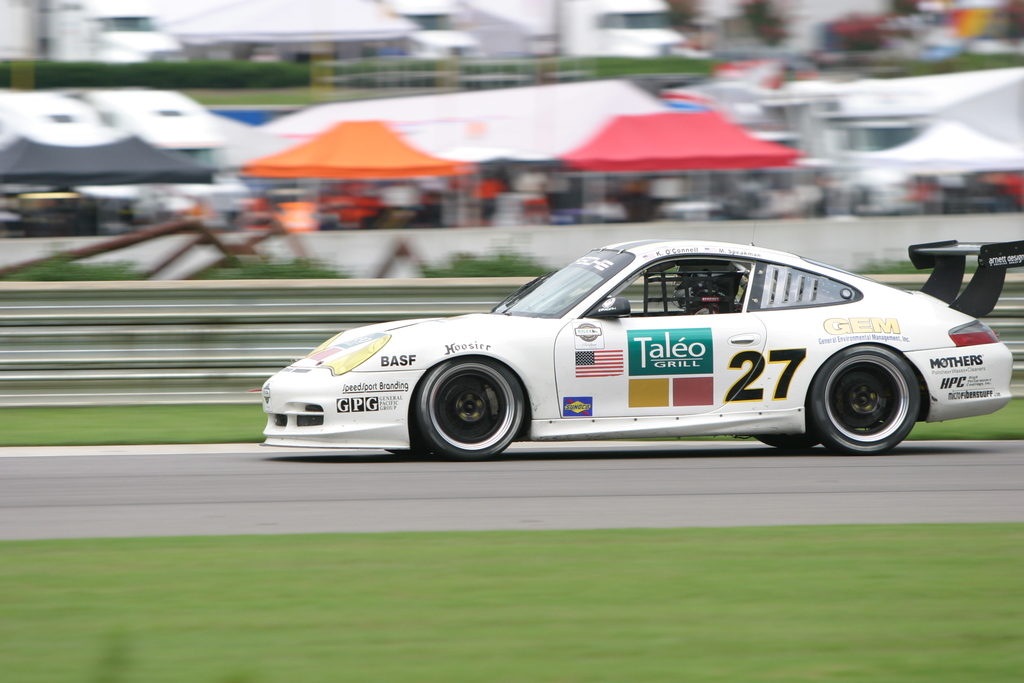person: (907, 173, 942, 214)
